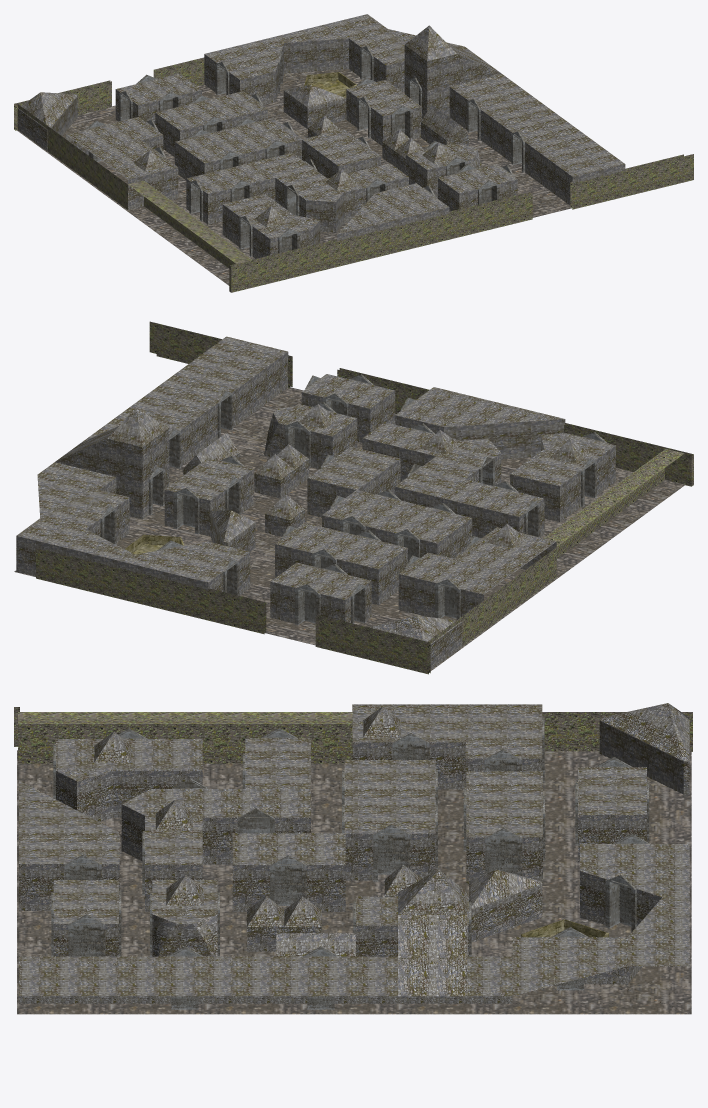
The model's file is mausoleum maze 04.FBX.
3 views of the same model, one above another, from view 1: azimuth 30°, elevation 25°; view 2: azimuth 150°, elevation 25°; view 3: azimuth 270°, elevation 25° (orthographic). The views are drawn at different scales.
Visible parts, largest first — view 1: Box022, Plane067, mausoleum maze ground, Plane064, Box030, Box015, Box028, Box019, Box023, Box017, Box014, Box018 (+12 smaller); view 2: Box022, mausoleum maze ground, Plane066, Box030, Plane064, Box021, Box028, Box015, Box017, Box023, Plane067, Box029 (+17 smaller); view 3: Box022, mausoleum maze ground, Plane064, Box030, Box019, Box015, Box021, Box017, Box016, Box028, Box023, Line012 (+15 smaller).
Part boxes in pixels (x1,y1,x2,y2): Box022: (204,14,625,205); Plane067: (229,154,693,292); mausoleum maze ground: (17,69,572,285); Plane064: (17,103,252,268); Box030: (66,117,178,209); Box015: (175,117,302,179); Box028: (404,25,501,118); Box019: (254,152,346,244); Box023: (222,194,312,258); Box017: (155,91,267,157); Box014: (346,78,421,145); Box018: (186,162,275,224); Box022: (16,336,288,595); mausoleum maze ground: (14,387,685,670); Plane066: (36,548,430,674); Box030: (398,527,556,619); Plane064: (426,449,684,646); Box021: (395,387,565,459); Box028: (55,408,169,519); Box015: (322,489,472,562); Box017: (275,522,407,604); Box023: (510,432,615,522); Plane067: (149,321,693,486); Box029: (270,562,371,625); Box022: (19,833,689,1009); mausoleum maze ground: (17,750,691,1014); Plane064: (18,712,692,763); Box030: (352,704,544,789); Box019: (56,770,310,864); Box015: (342,760,437,881); Box021: (19,780,119,910); Box017: (463,771,545,884); Box016: (232,833,345,911); Box028: (398,869,467,996); Box023: (53,728,202,817); Line012: (599,703,689,794).
Bounding box in the file's own units: 4702 × 819 × 3895.
